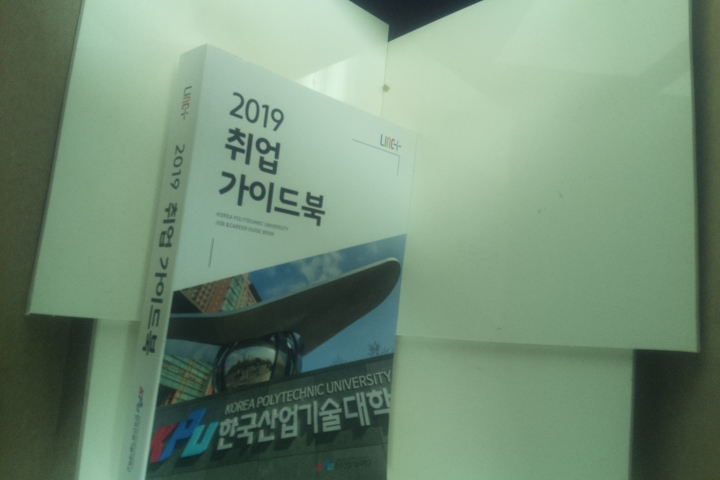book: (112, 42, 424, 480)
